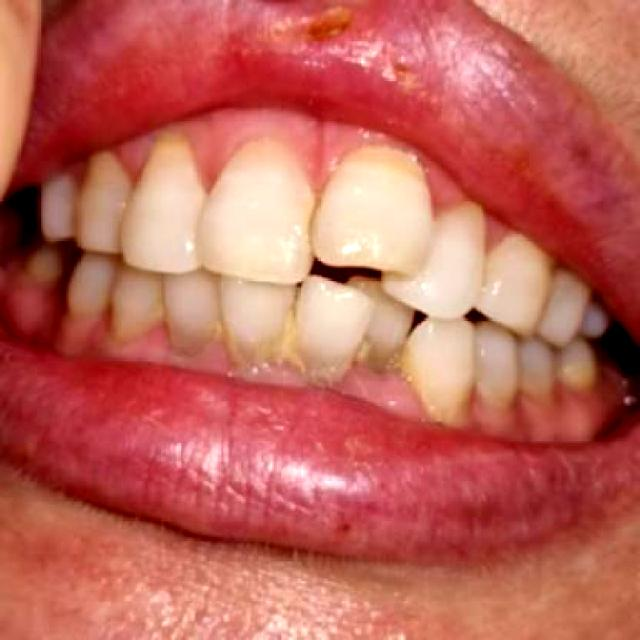Plaque: (334, 362, 435, 419), (280, 139, 355, 193), (186, 133, 244, 190), (424, 155, 463, 219), (129, 315, 175, 366), (109, 136, 158, 183), (190, 334, 240, 378), (483, 209, 517, 256), (257, 356, 312, 383), (512, 389, 557, 416), (470, 389, 500, 425), (56, 157, 83, 196), (556, 381, 587, 403)
